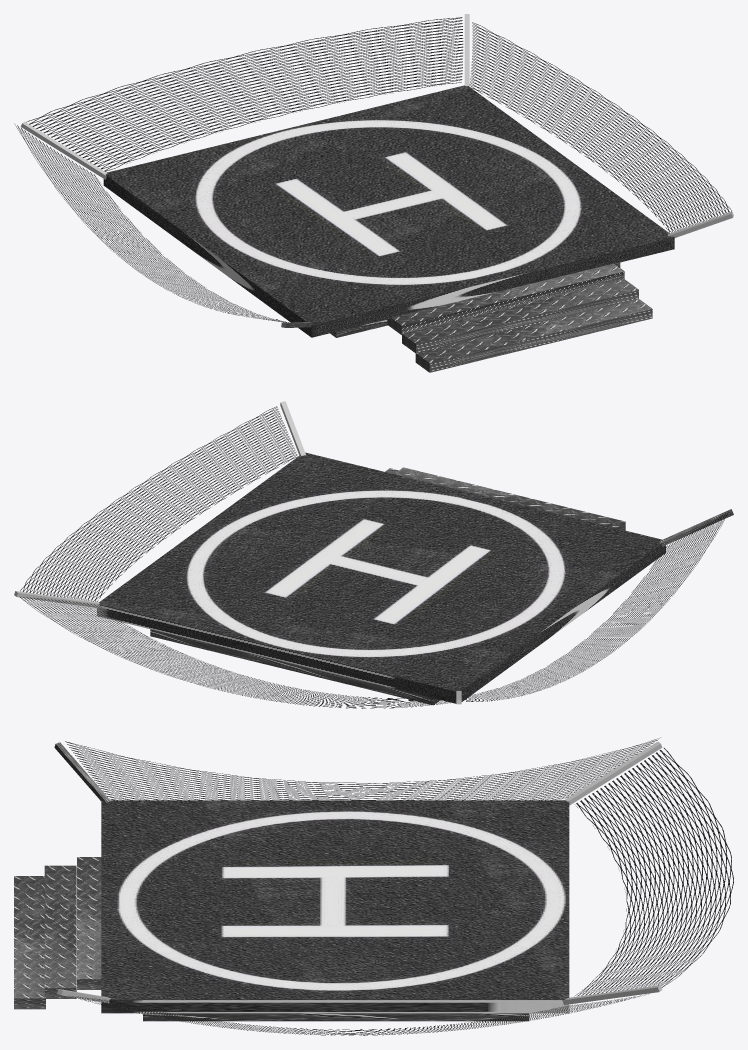
File: helipad.obj
The picture shows the model from 3 angles, top to bottom: view 1: azimuth 30°, elevation 25°; view 2: azimuth 150°, elevation 25°; view 3: azimuth 270°, elevation 25°; orthographic projection. The views are drawn at different scales.
Visible parts, largest first — view 1: Cube, Cube.009, Cube.011, Cube.010, Cube.003, Cube.002, Cube.004, Cube.005; view 2: Cube, Cube.011, Cube.009, Cube.010, Cube.001, Cube.003, Cube.002, Cube.008, Cube.006; view 3: Cube, Cube.009, Cube.010, Cube.003, Cube.002, Cube.001, Cube.004, Cube.011, Cube.005, Cube.006, Cube.008.
Boxes of the visible parts, x1,y1,x2,y2 form: Cube: (103,85,674,337); Cube.009: (26,17,463,171); Cube.011: (469,22,731,232); Cube.010: (14,123,288,322); Cube.003: (402,279,638,353); Cube.002: (415,299,652,372); Cube.004: (387,263,624,334); Cube.005: (21,121,107,179); Cube: (97,452,665,703); Cube.011: (20,406,297,601); Cube.009: (20,597,453,708); Cube.010: (465,511,728,701); Cube.001: (150,629,439,704); Cube.003: (385,468,612,527); Cube.002: (399,467,625,530); Cube.008: (659,509,733,546); Cube.006: (14,591,100,608); Cube: (101,800,569,1013); Cube.009: (574,748,733,996); Cube.010: (65,737,660,800); Cube.003: (44,865,76,998); Cube.002: (14,876,45,1009); Cube.001: (143,1013,529,1021); Cube.004: (77,857,101,989); Cube.011: (68,993,649,1035); Cube.005: (564,741,662,805); Cube.006: (562,985,662,1004); Cube.008: (54,742,110,802).
Size of the model in its own units: 14.94 by 1.98 by 16.32.
